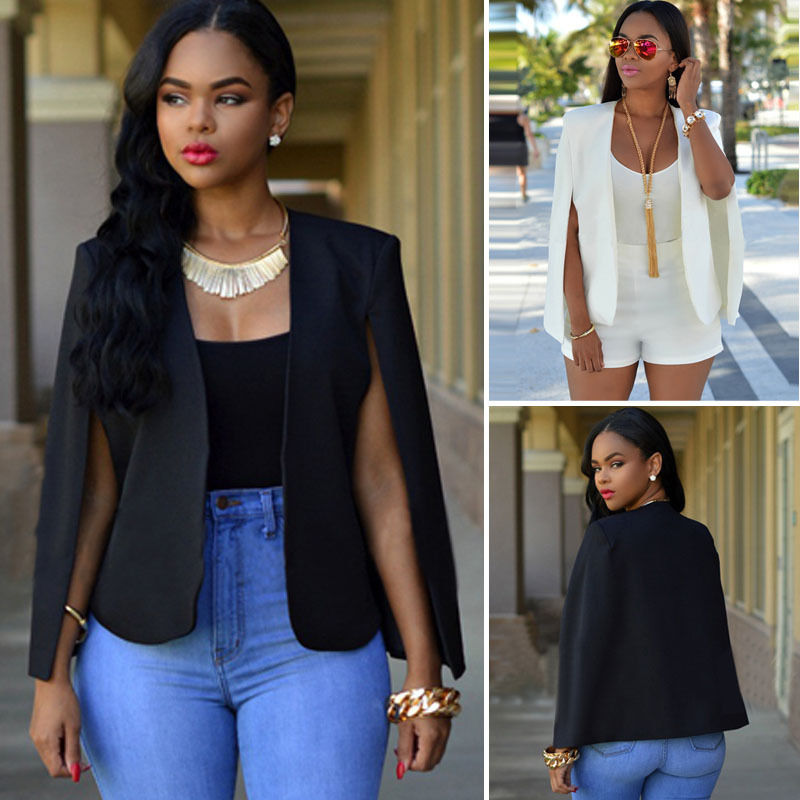F_W_suit jacket: (23, 223, 477, 678), (548, 105, 752, 346), (548, 508, 752, 744)
